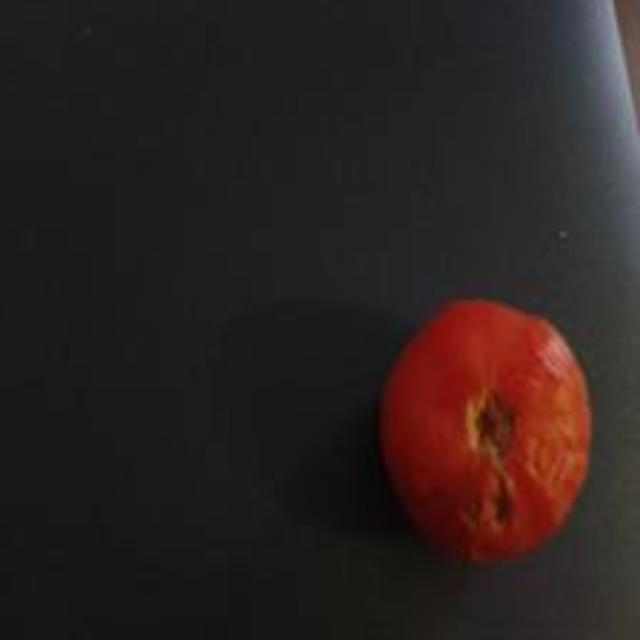defect: (375, 284, 594, 565)
